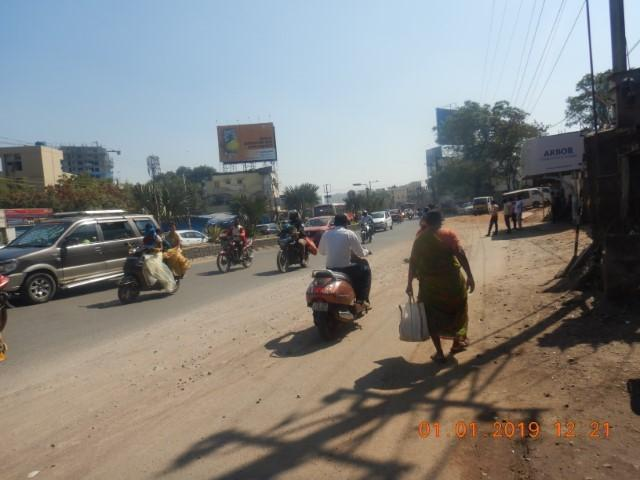with_helmet: (275, 209, 317, 276), (357, 209, 377, 249)
without_helmet: (305, 208, 373, 343), (114, 217, 191, 307), (211, 214, 257, 274)
